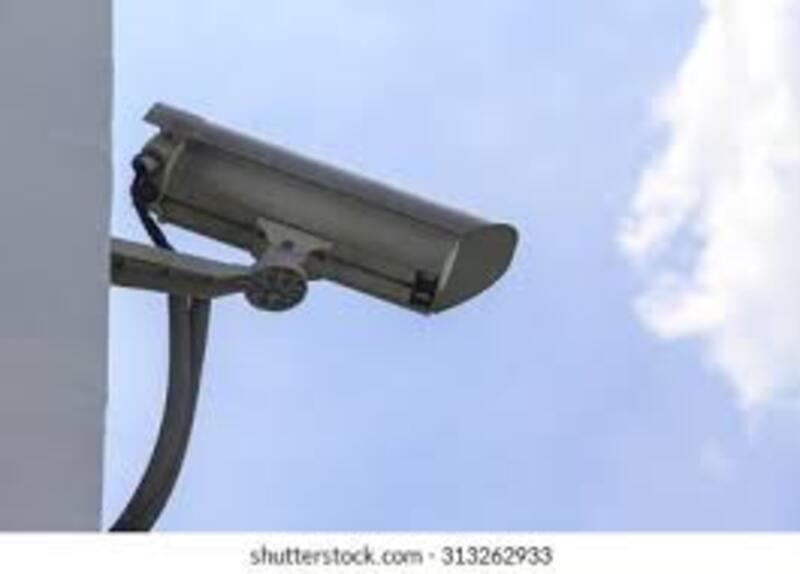box: (177, 53, 578, 226)
